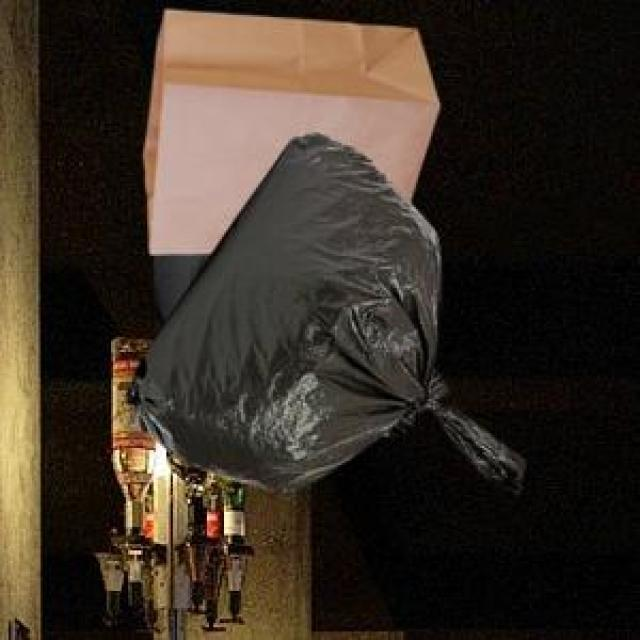miscellaneous trash: (122, 130, 521, 489), (149, 250, 206, 333)
paper: (139, 6, 435, 250)
